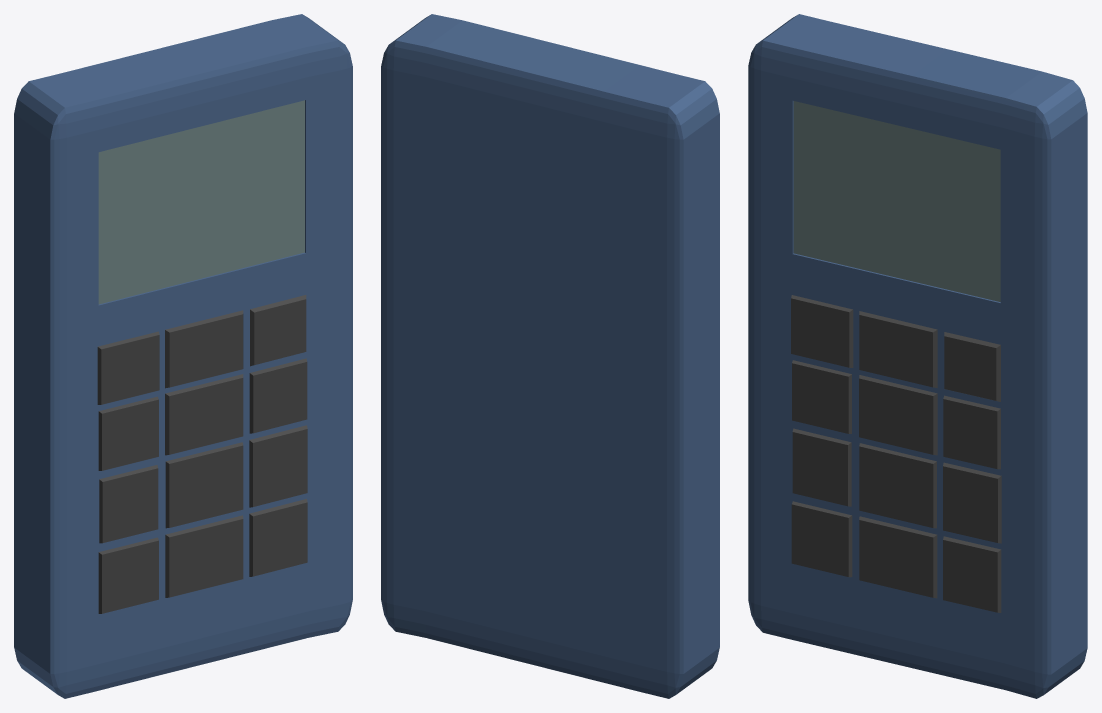
Rendered from Cellphone.fbx.
3 renders of one model, left to right at view 1: azimuth 30°, elevation 25°; view 2: azimuth 150°, elevation 25°; view 3: azimuth 330°, elevation 25°, orthographic.
Parts seen in each view (by area): view 1: Cube; view 2: Cube; view 3: Cube.
Part boxes in pixels (box(x1,y1,x2,y2)): Cube: box(14, 14, 352, 698); Cube: box(381, 14, 719, 698); Cube: box(748, 14, 1087, 698).
Size of the model in its own units: 170 by 319 by 41.3.
